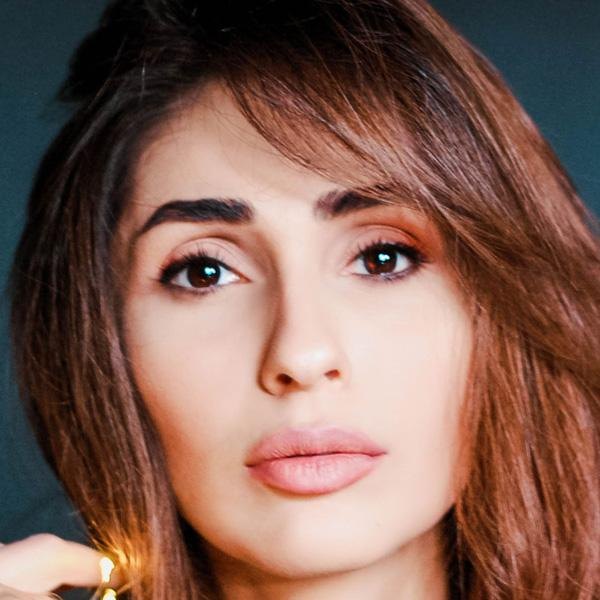Eyes: (327, 214, 431, 294), (151, 232, 259, 306)
